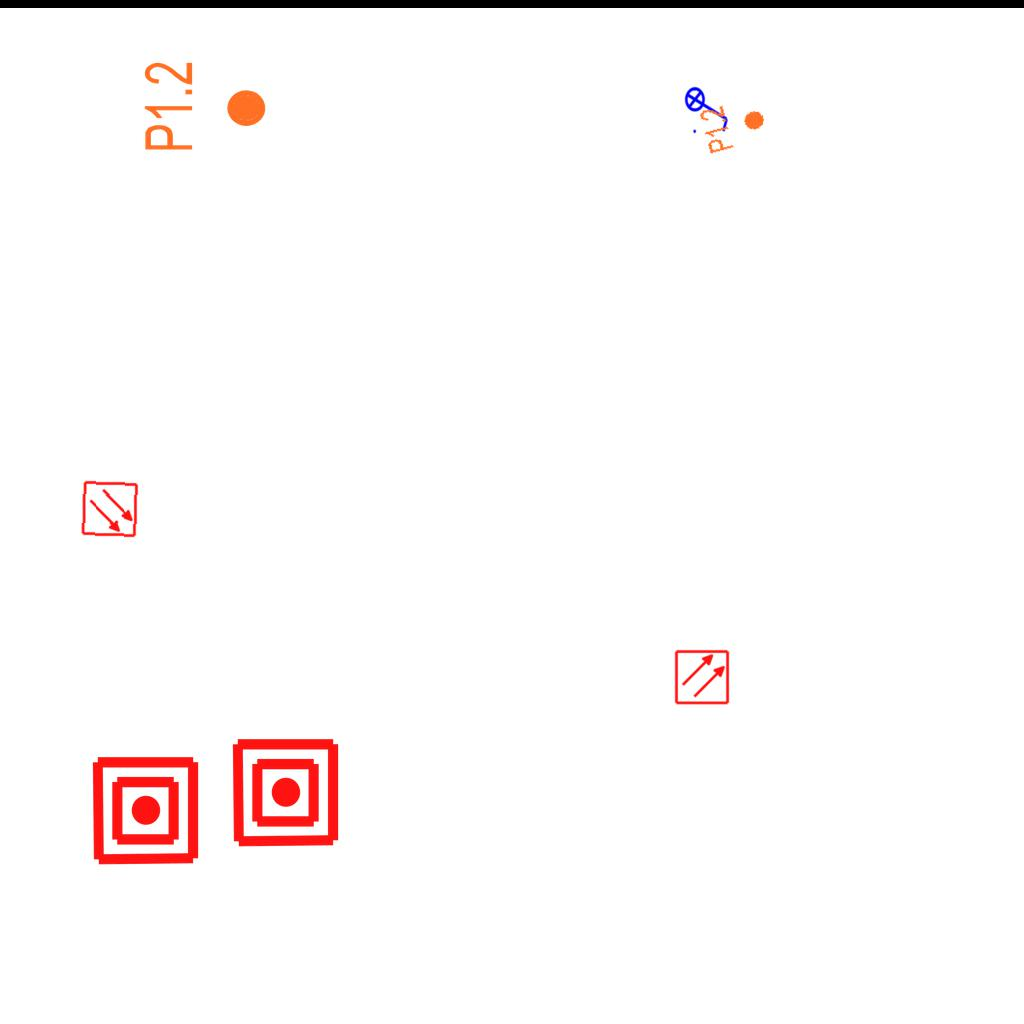Ausschalter_beleuchtet: (684, 80, 732, 136)
Downlight_LED_Einbauleuchten_Flur: (141, 60, 269, 153), (697, 94, 771, 156)
NAM-Nichtautomatischer_Melder: (89, 754, 202, 867), (229, 736, 342, 849)
RMO_Rauchmelder_optischer: (81, 480, 139, 538), (674, 649, 730, 705)
